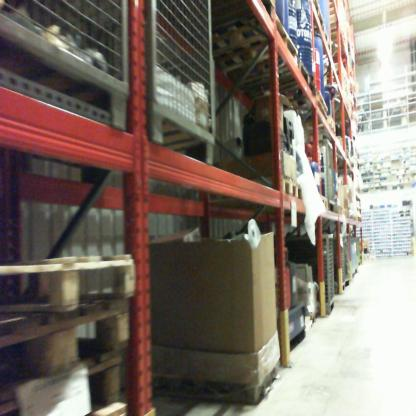pallet: (2, 228, 148, 335), (4, 296, 141, 405), (2, 349, 146, 411), (154, 352, 294, 408), (206, 11, 301, 79), (228, 59, 320, 105), (195, 1, 275, 42), (233, 175, 300, 201), (289, 98, 331, 123), (312, 28, 336, 48), (308, 2, 322, 26), (324, 120, 341, 139), (314, 193, 329, 213)
stillage: (2, 4, 136, 146), (147, 1, 229, 175), (278, 225, 339, 324), (301, 135, 339, 209), (338, 235, 348, 291), (344, 235, 353, 287)
